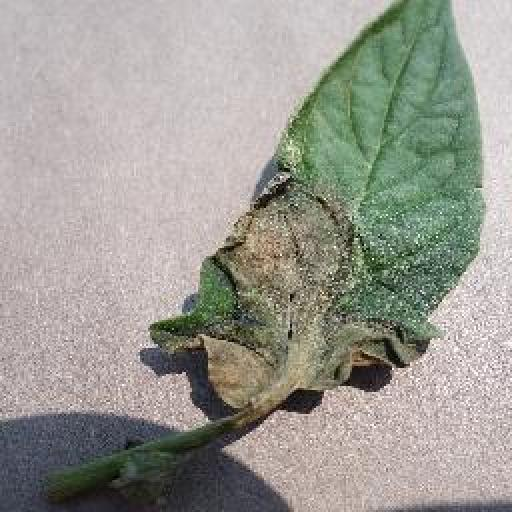Late Blight: (143, 0, 484, 424)
